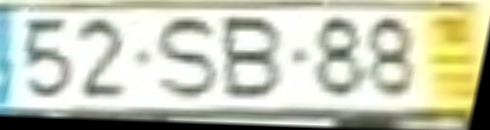2: (70, 13, 132, 101)
5: (21, 16, 77, 103)
8: (307, 12, 367, 100), (364, 16, 419, 101)
B: (218, 16, 290, 103)
S: (153, 13, 221, 103)
